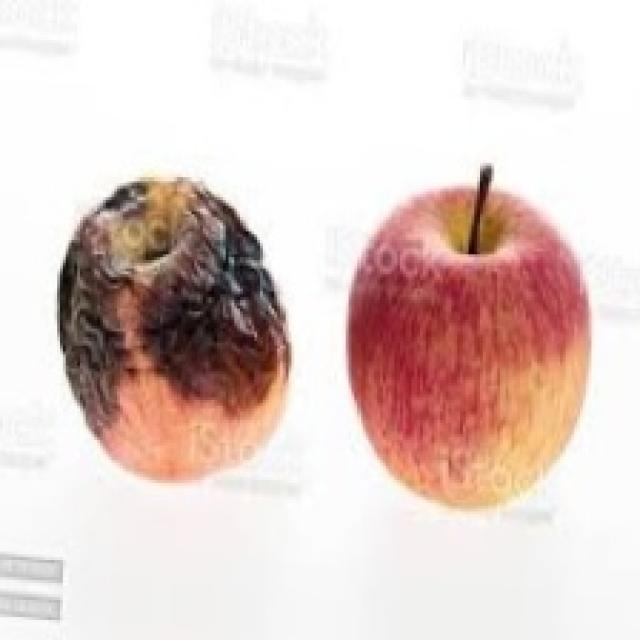100-_ripeness: (343, 181, 596, 515)
rotten_apple: (60, 184, 287, 477)
